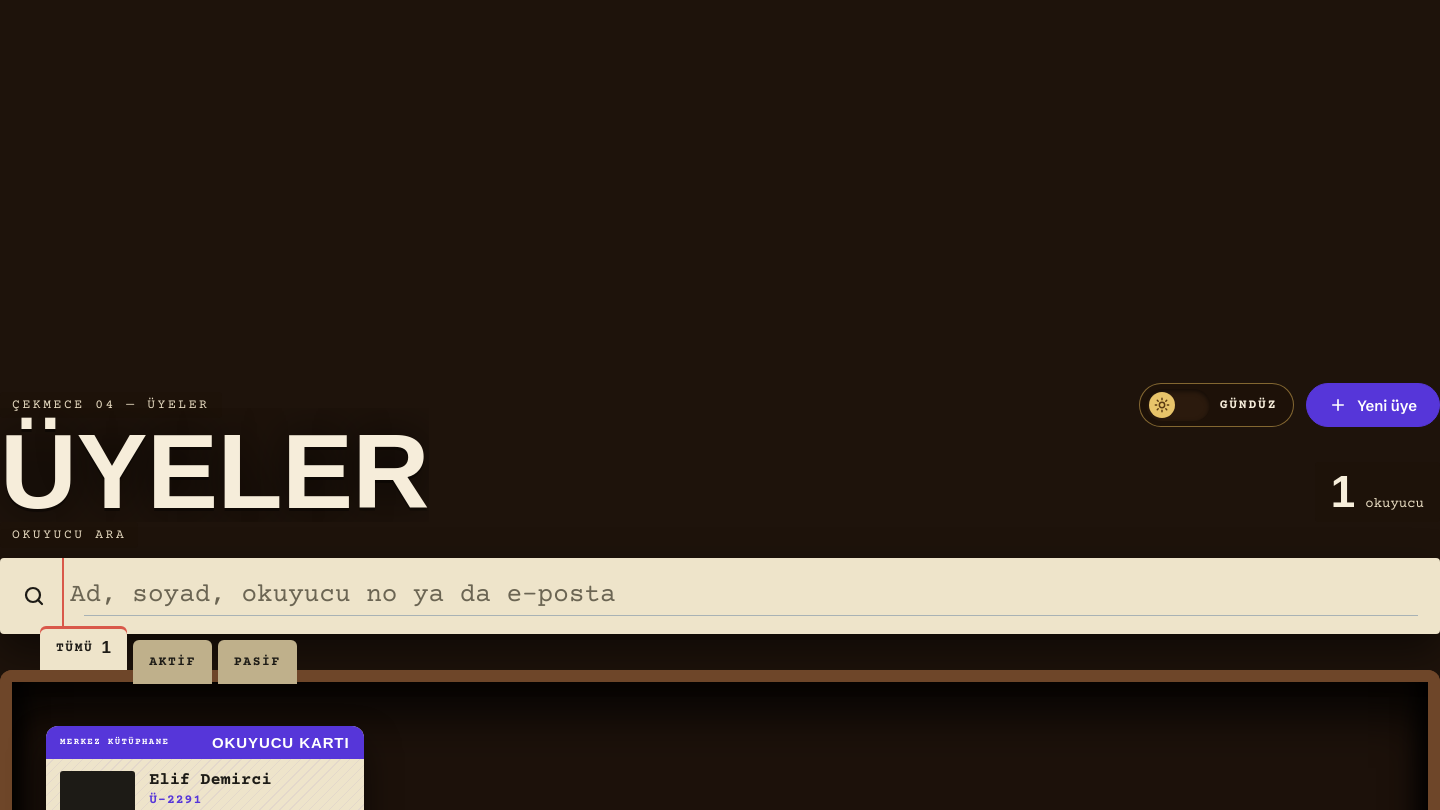
it: Yeni üye fişi › Esc ya da Vazgeç fişi kapatır, odak düğmeye döner
The image size is (1440, 810).
(page scrolled)
Click the button "Yeni üye" at [1373, 405], box [1306,383,1439,427]
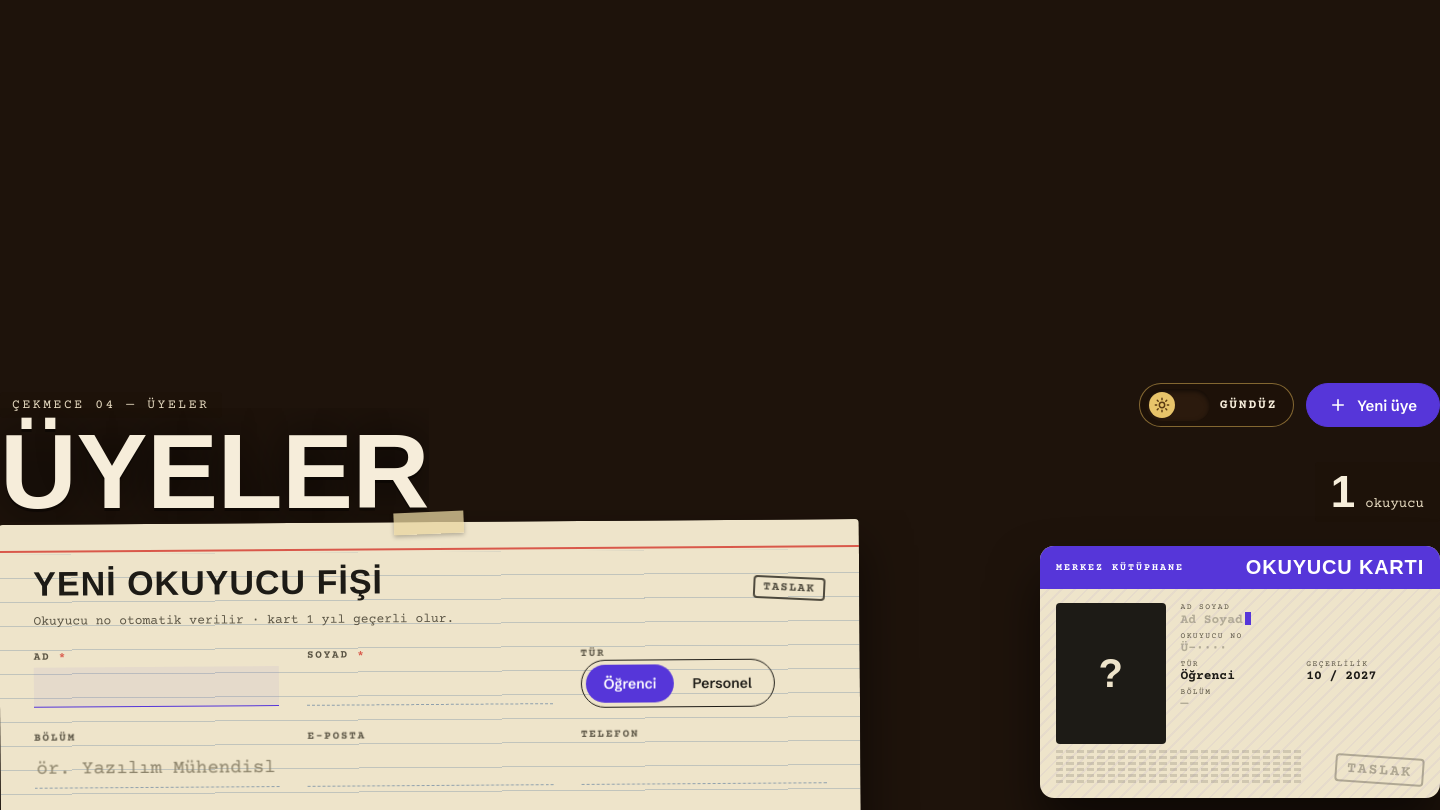
Press Escape
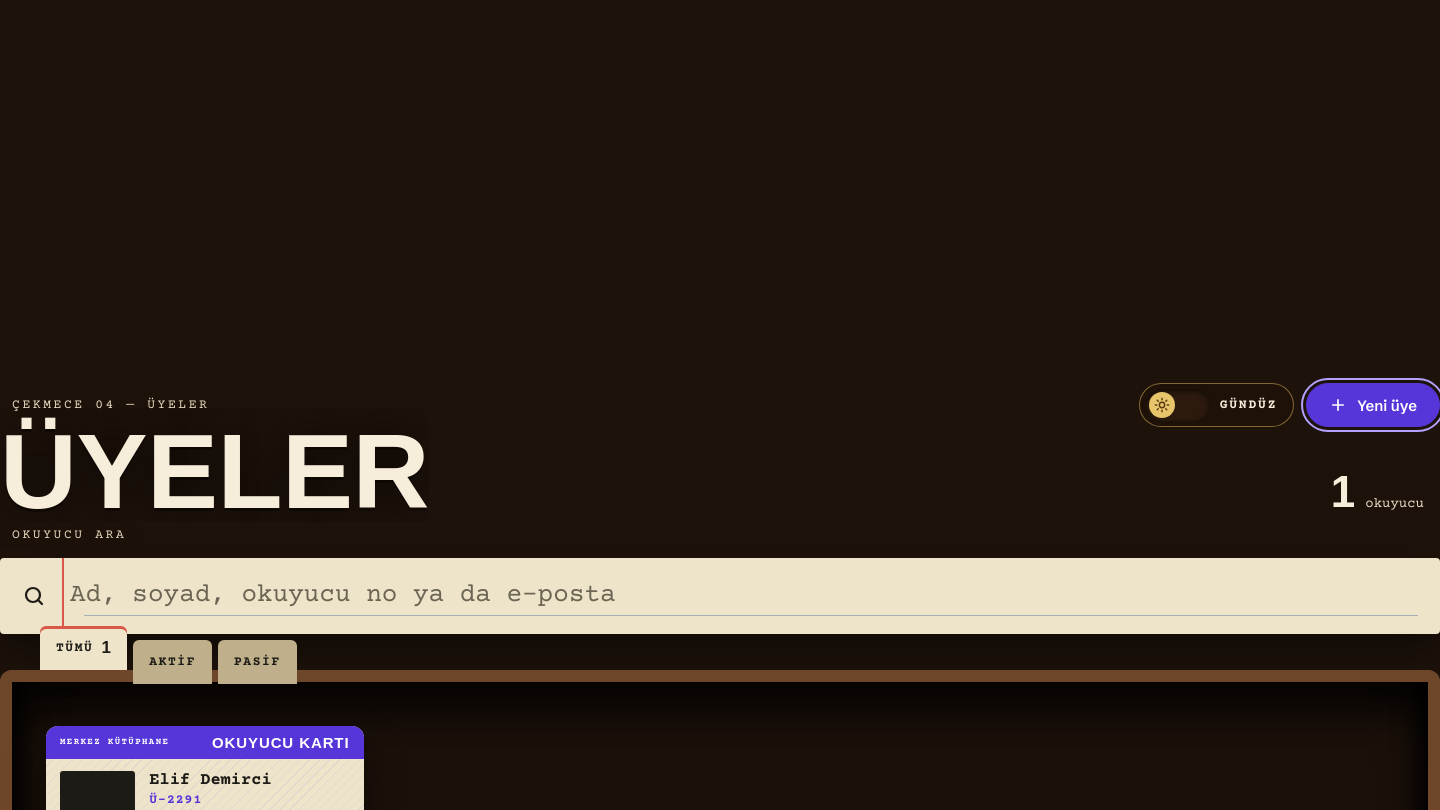
expect the button "Yeni üye" is collapsed: met, box [1306,383,1439,427]
